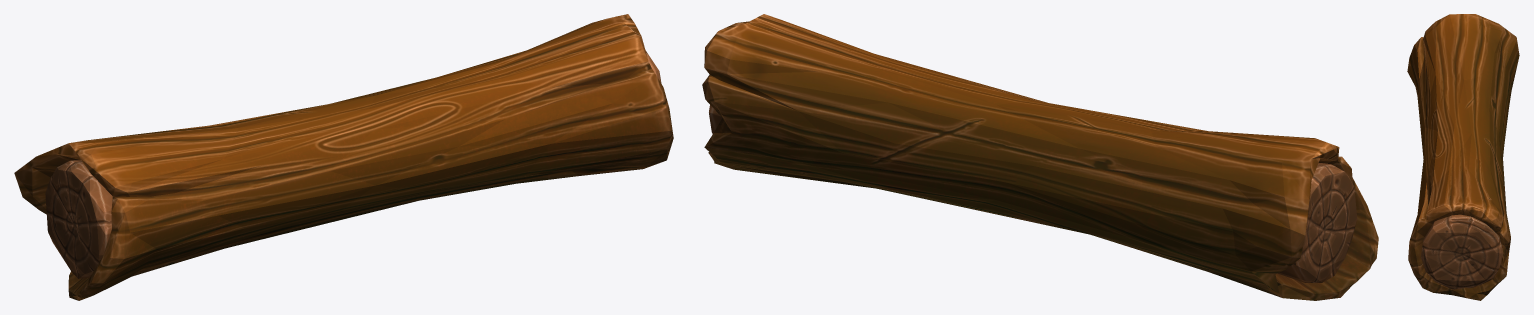
Rendered from HOS0710002.FBX.
3 views of the same model, side by side, from view 1: azimuth 30°, elevation 25°; view 2: azimuth 150°, elevation 25°; view 3: azimuth 270°, elevation 25° (orthographic). The views are drawn at different scales.
Parts seen in each view (by area): view 1: smHOS0710002; view 2: smHOS0710002; view 3: smHOS0710002.
Boxes of the visible parts, x1,y1,x2,y2 form: smHOS0710002: (14, 14, 673, 300); smHOS0710002: (702, 14, 1378, 300); smHOS0710002: (1407, 14, 1519, 300).
Size of the model in its own units: 328 by 75.85 by 77.89.
1 material, 1 textured.
